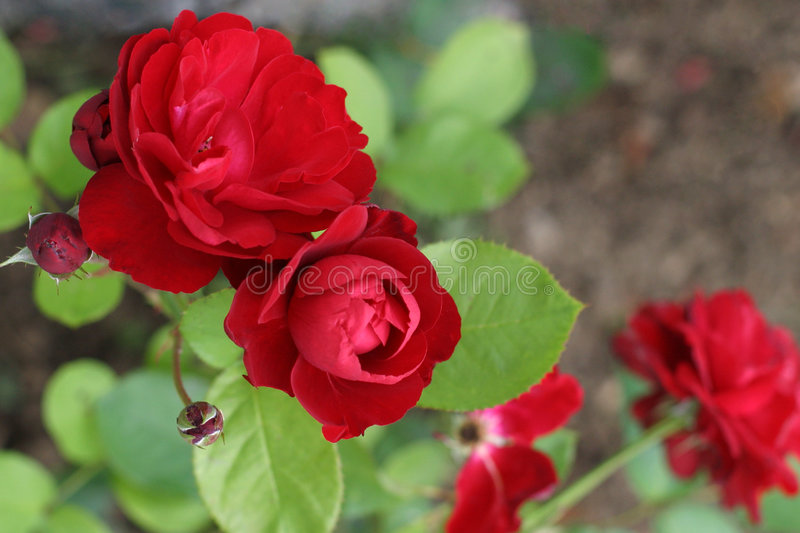RedRose: (93, 5, 406, 281), (240, 197, 470, 457)
